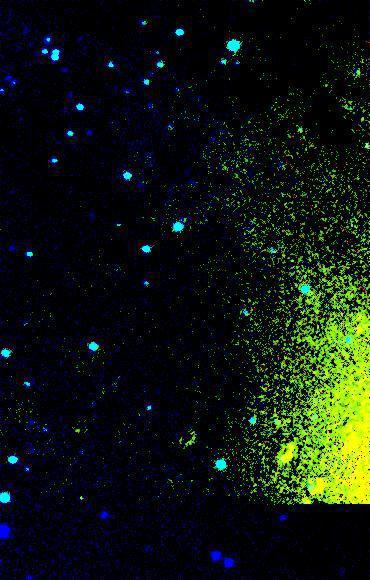star: (65, 477, 95, 507)
